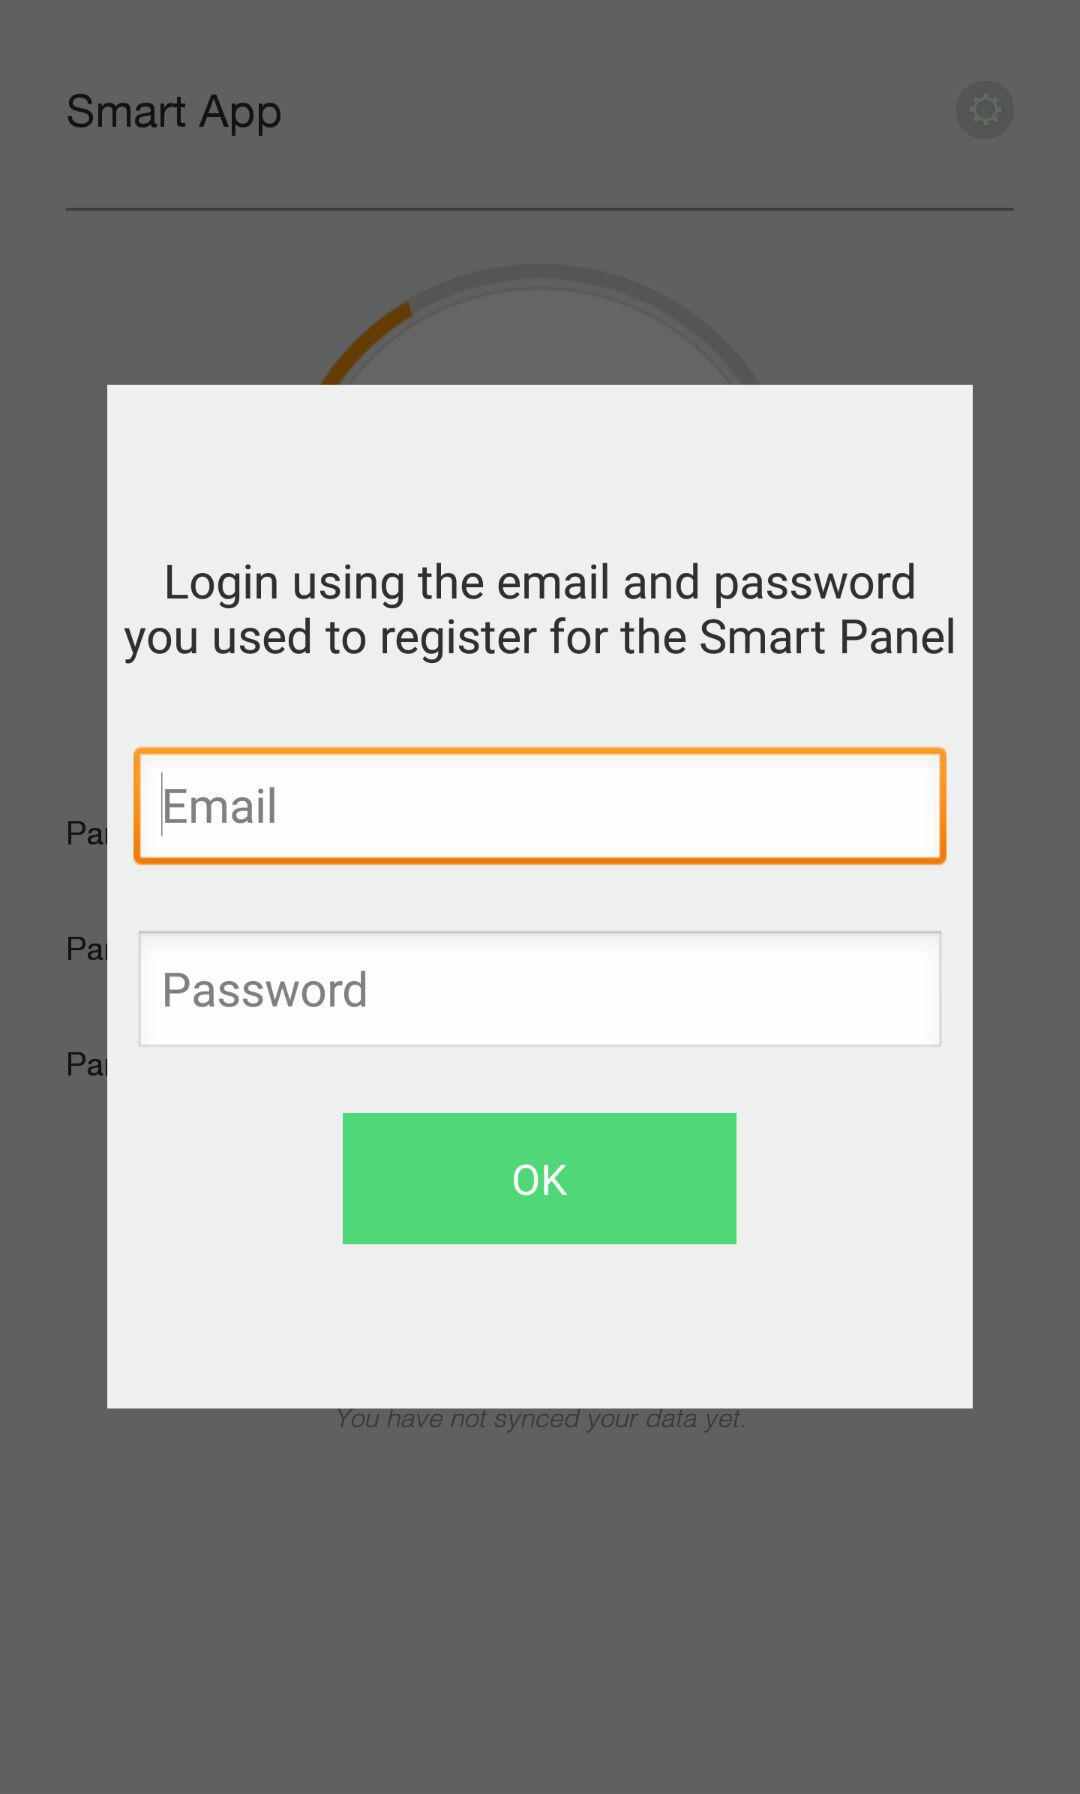EditText: (133, 747, 948, 866), (138, 930, 943, 1049)
Icon: (956, 83, 1016, 141)
Modal: (106, 384, 974, 1410)
Text: (124, 563, 954, 666), (67, 94, 282, 138), (165, 970, 366, 1008), (165, 786, 275, 825)
TextButton: (342, 1114, 738, 1246)
